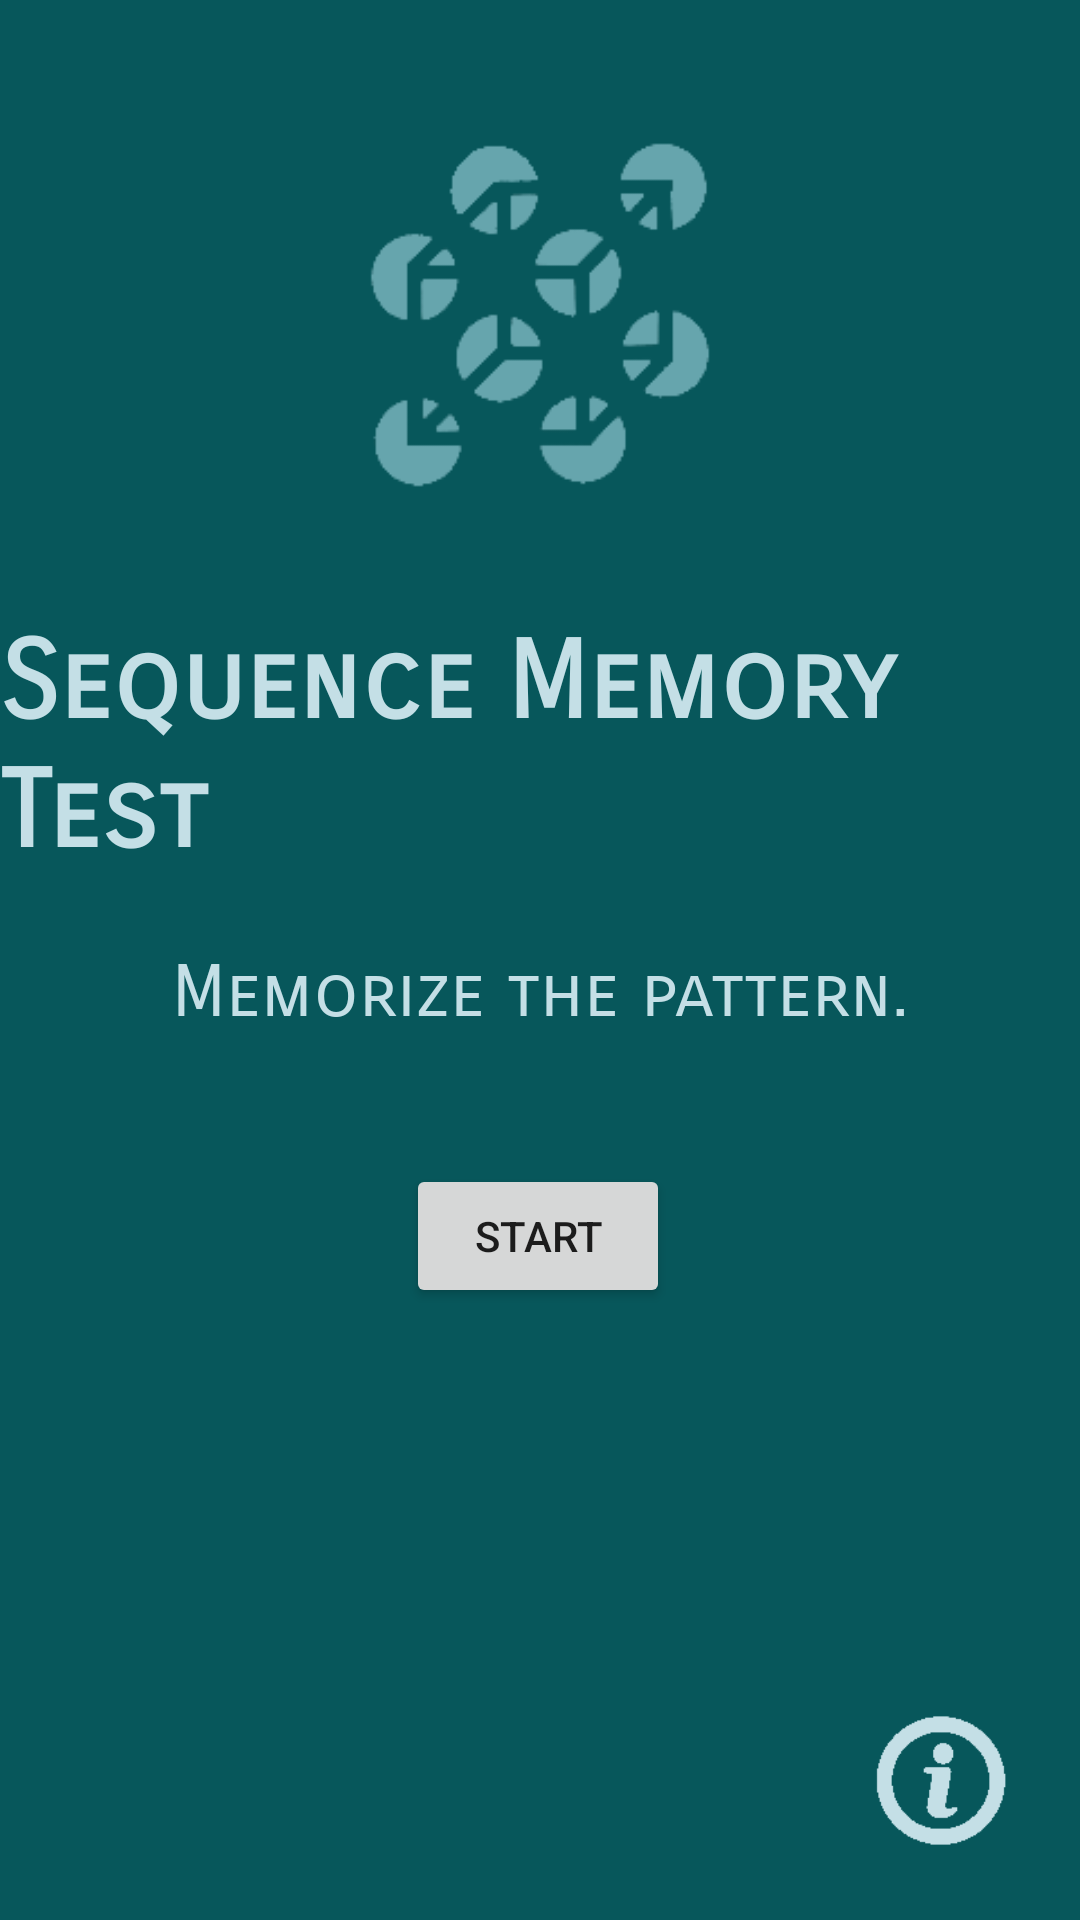

Screen size 1080x1920. Icon name, then its center in pixels as point (x, y):
info: point (941, 1780)
